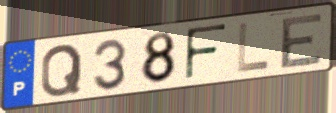3: (91, 36, 129, 91)
8: (137, 30, 178, 87)
E: (278, 11, 326, 72)
F: (183, 22, 230, 83)
L: (235, 20, 272, 75)
Q: (39, 42, 85, 100)
